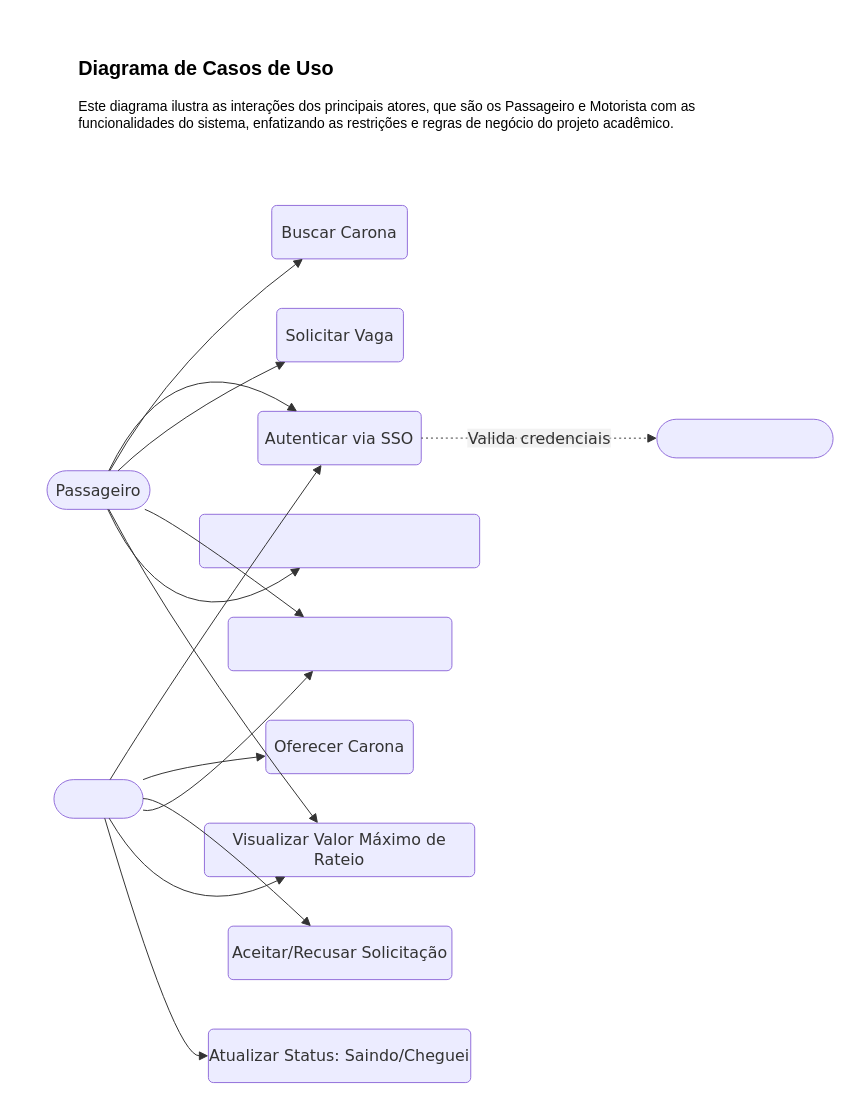
This 850x1100 diagram has some shape labels left out. The box of each missing label's shape, as (x1, y1, x2, y2) in pixels:
Avaliar Usuário - Nota 1 a 5: (227, 616, 452, 671)
Compartilhar Viagem via WhatsApp: (198, 513, 480, 568)
Motorista: (53, 779, 143, 818)
SSO da Universidade: (656, 418, 833, 458)
